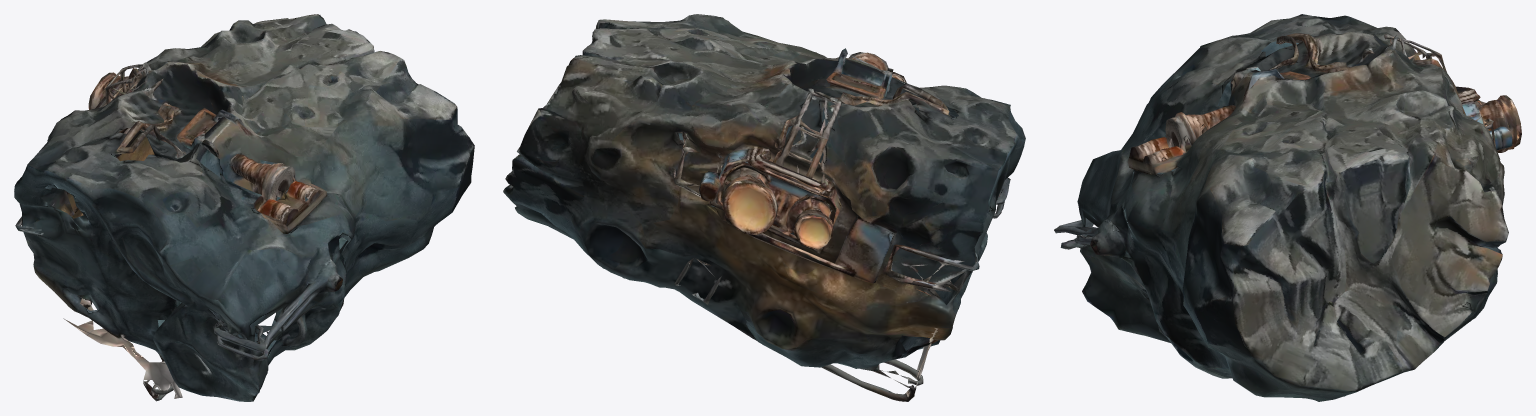
File: na-rock-b.glb
The picture shows the model from 3 angles, left to right: view 1: azimuth 30°, elevation 25°; view 2: azimuth 150°, elevation 25°; view 3: azimuth 270°, elevation 25°; orthographic projection. The views are drawn at different scales.
Visible parts, largest first — view 1: world; view 2: world; view 3: world.
Part boxes in pixels (left/top/right/bottom): world: left=14, top=14, right=474, bottom=401; world: left=503, top=14, right=1025, bottom=401; world: left=1054, top=14, right=1521, bottom=401.
Bounding box in the file's own units: 0.9375 × 0.6414 × 0.773.
1 material, 1 textured.
